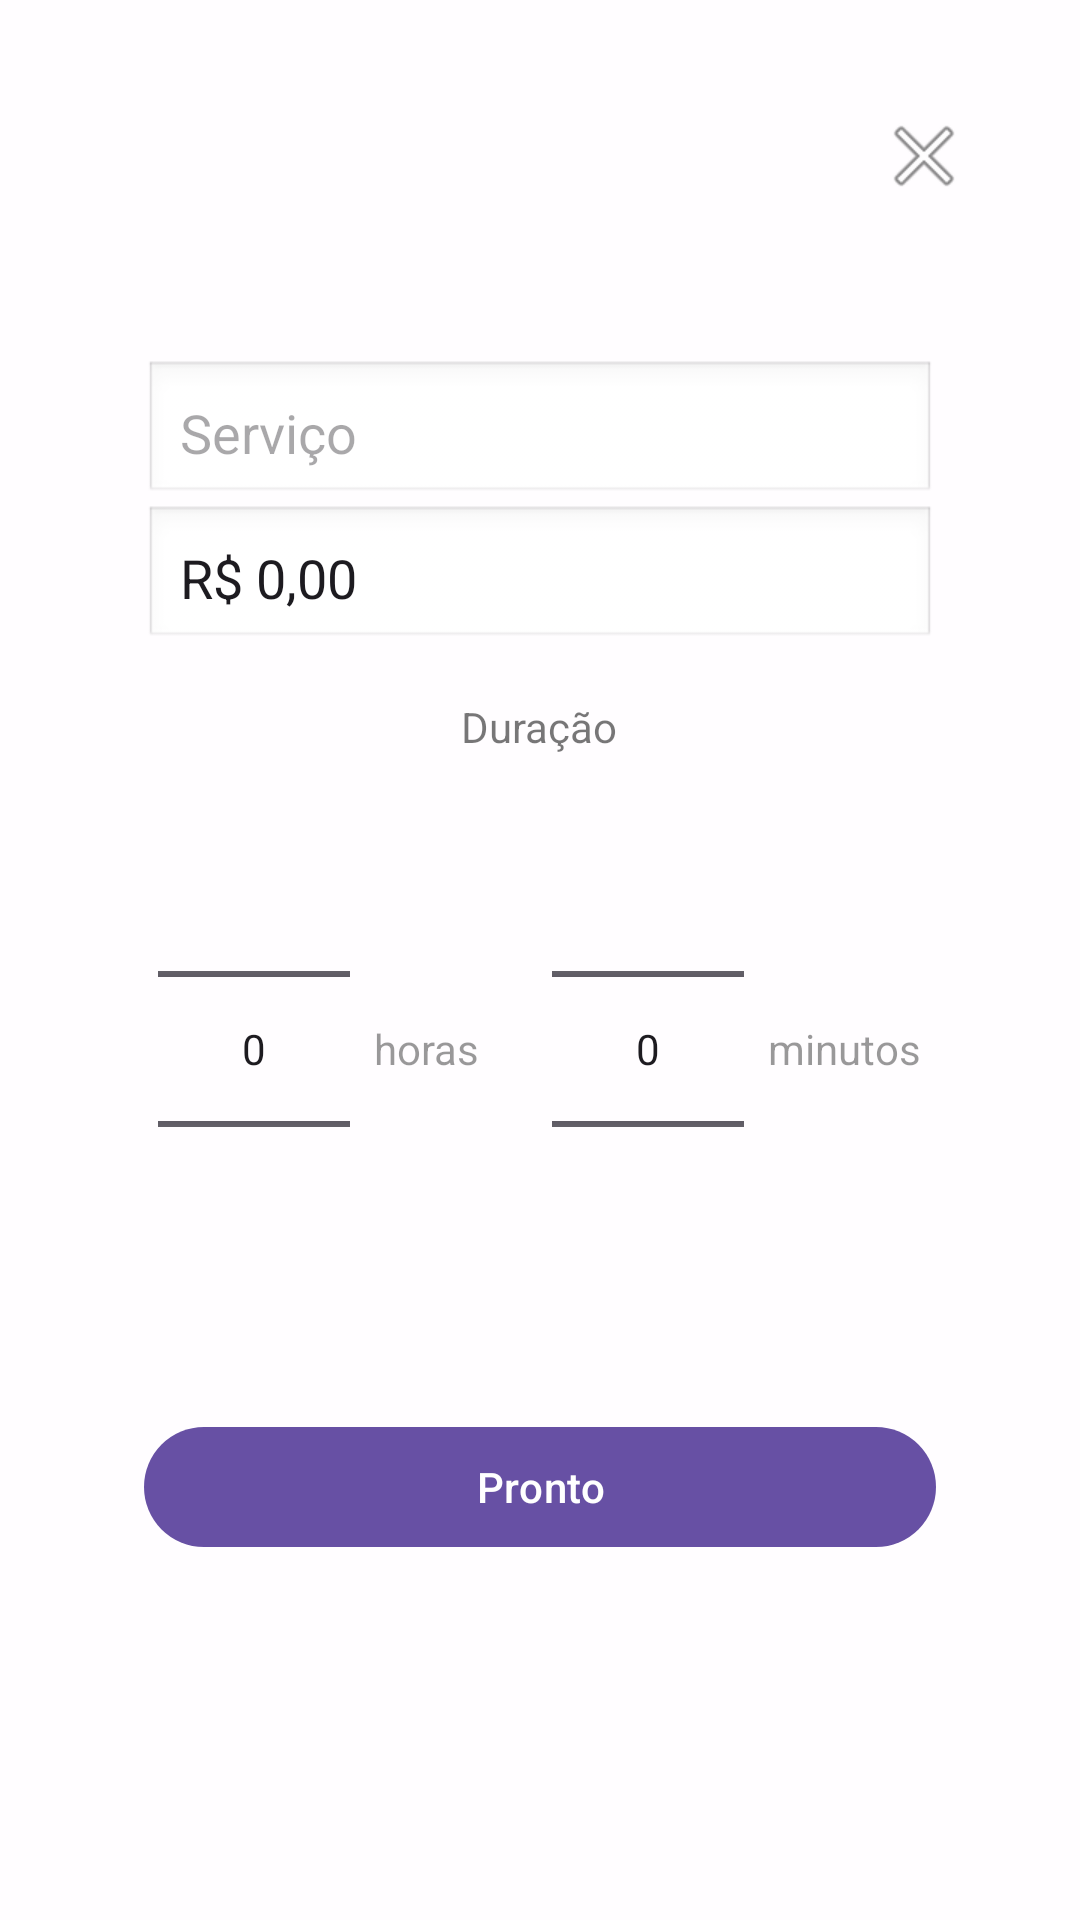

Where icons sit on this 1080w x 1920h app screen, as bbox(x1, y1, x2, y2):
Fechar: bbox(894, 126, 954, 186)
